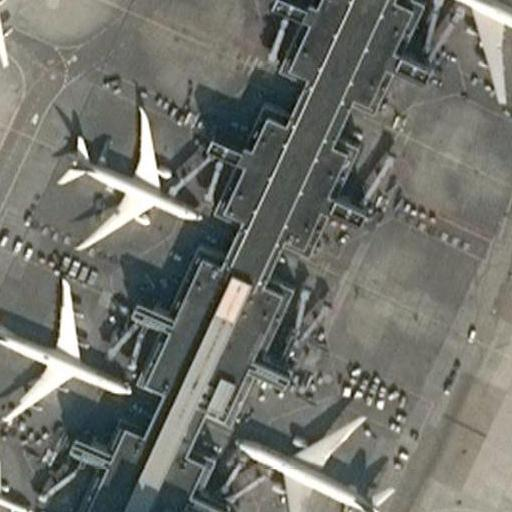Aircraft: (51, 90, 205, 252), (0, 270, 136, 420), (226, 400, 397, 512), (414, 0, 512, 100), (0, 0, 32, 78), (0, 447, 38, 512)
